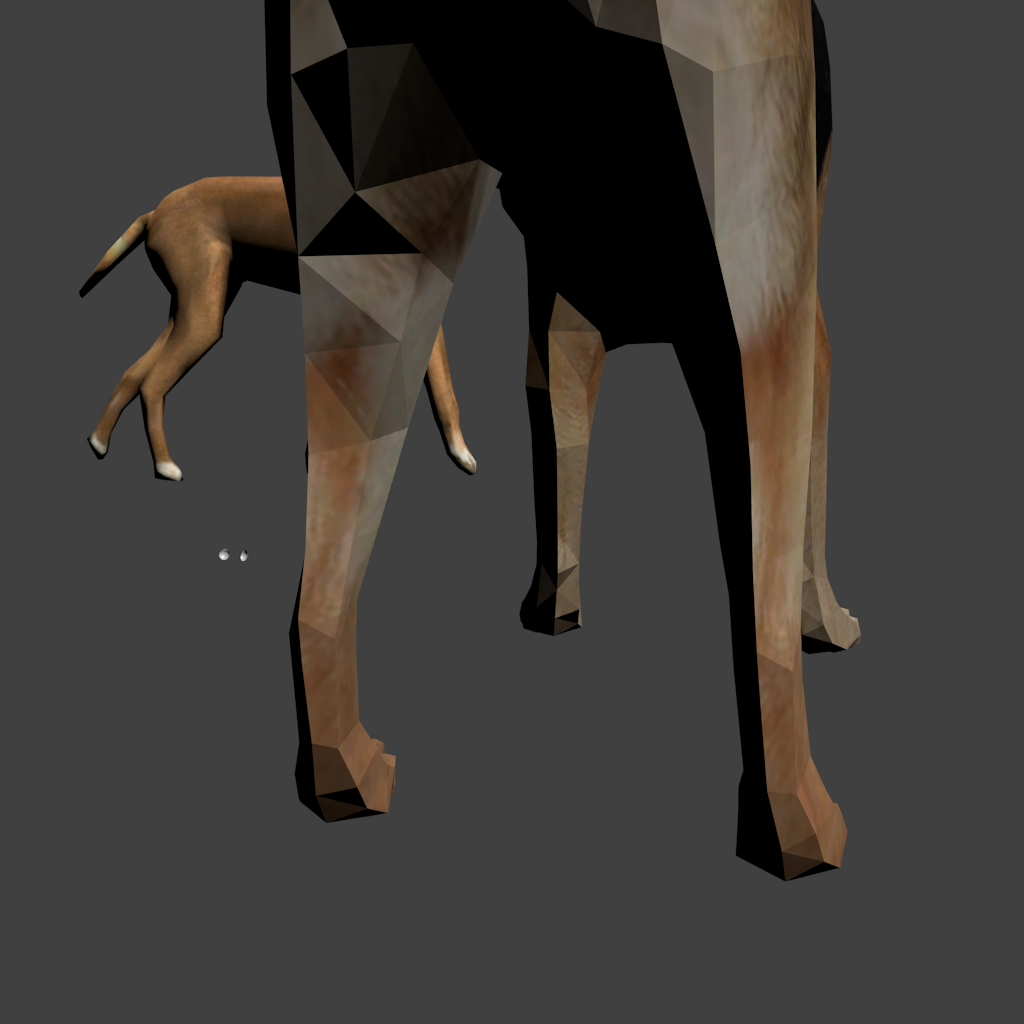Dog: (0, 0, 861, 882), (79, 177, 398, 305)
